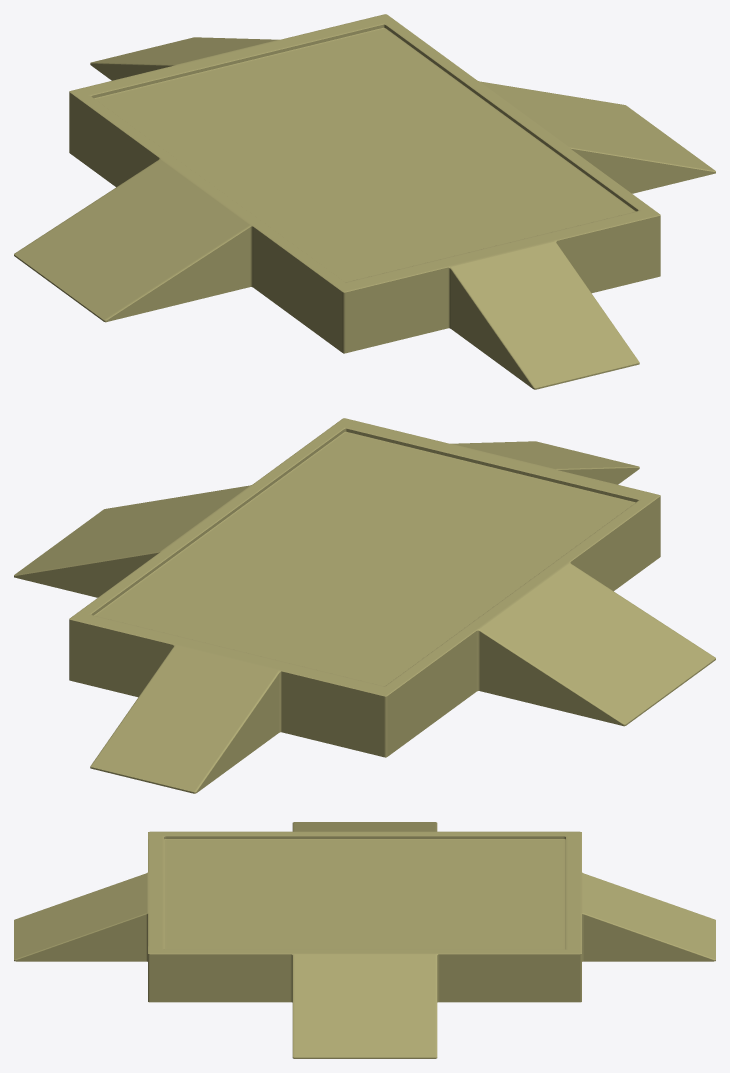
The model's file is stage.fbx.
The picture shows the model from 3 angles, top to bottom: view 1: azimuth 30°, elevation 25°; view 2: azimuth 150°, elevation 25°; view 3: azimuth 270°, elevation 25°; orthographic projection. The views are drawn at different scales.
Visible parts, largest first — view 1: Cube; view 2: Cube; view 3: Cube.
Part boxes in pixels (x1,y1,x2,y2): Cube: [14, 14, 715, 389]; Cube: [14, 418, 715, 793]; Cube: [14, 822, 715, 1058].
Size of the model in its own units: 832 by 80 by 1049.
